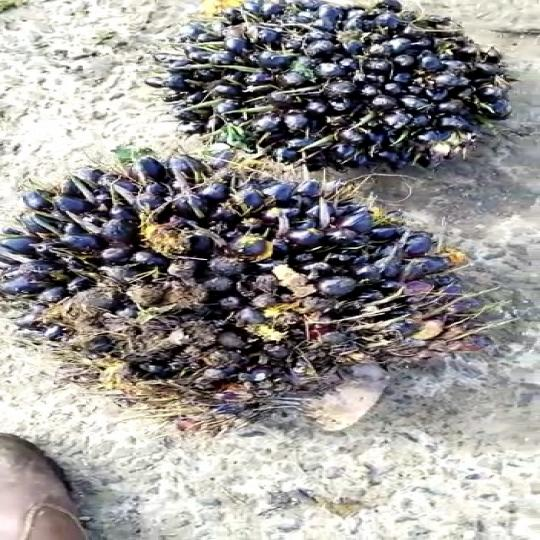mentah: (0, 150, 516, 434), (127, 0, 540, 193)
